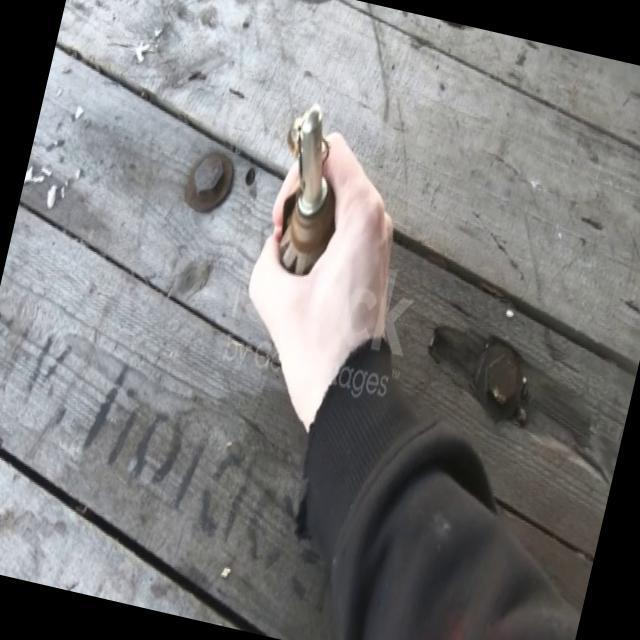grenade: (260, 96, 359, 284)
